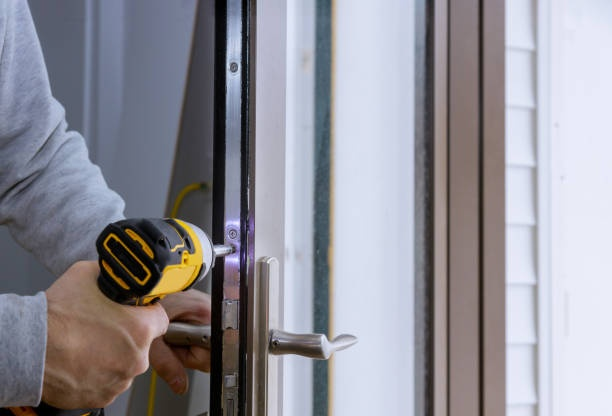driller: (73, 214, 237, 333)
